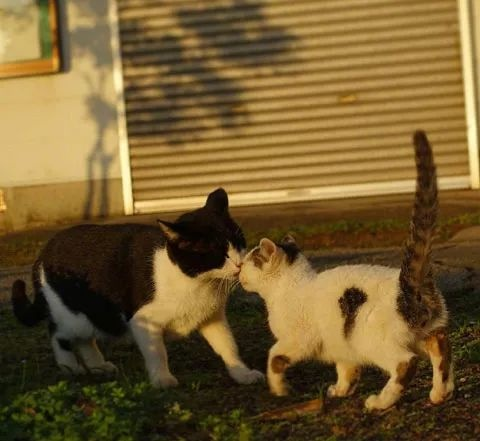cat: (239, 130, 457, 411), (11, 187, 264, 389)
